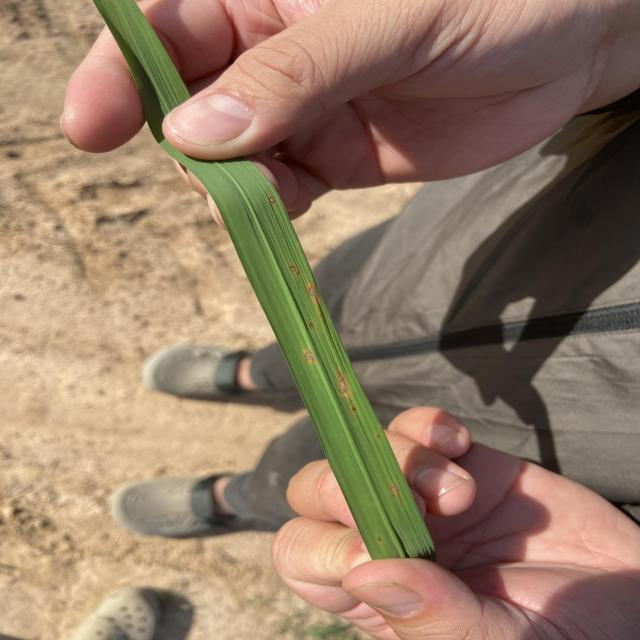Dao on: (337, 371, 350, 395), (303, 350, 314, 362), (309, 284, 317, 298), (392, 483, 399, 494), (290, 266, 296, 272), (269, 197, 274, 203), (311, 322, 313, 327), (353, 407, 355, 411)
